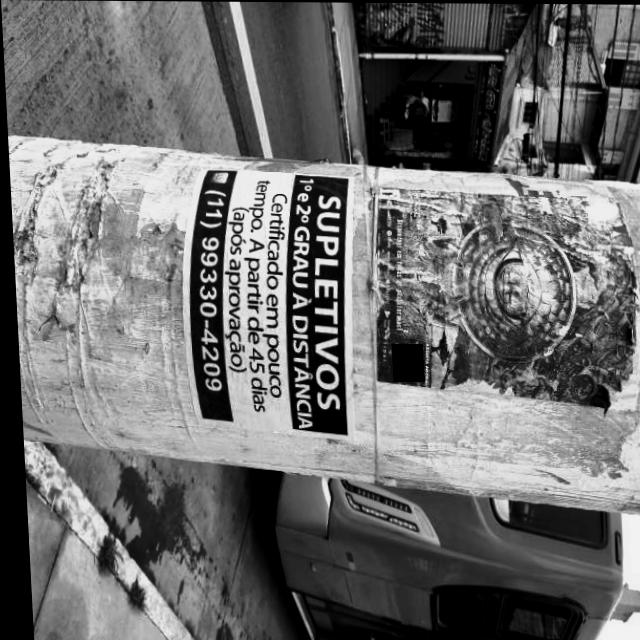qr_code: (387, 343, 419, 381)
